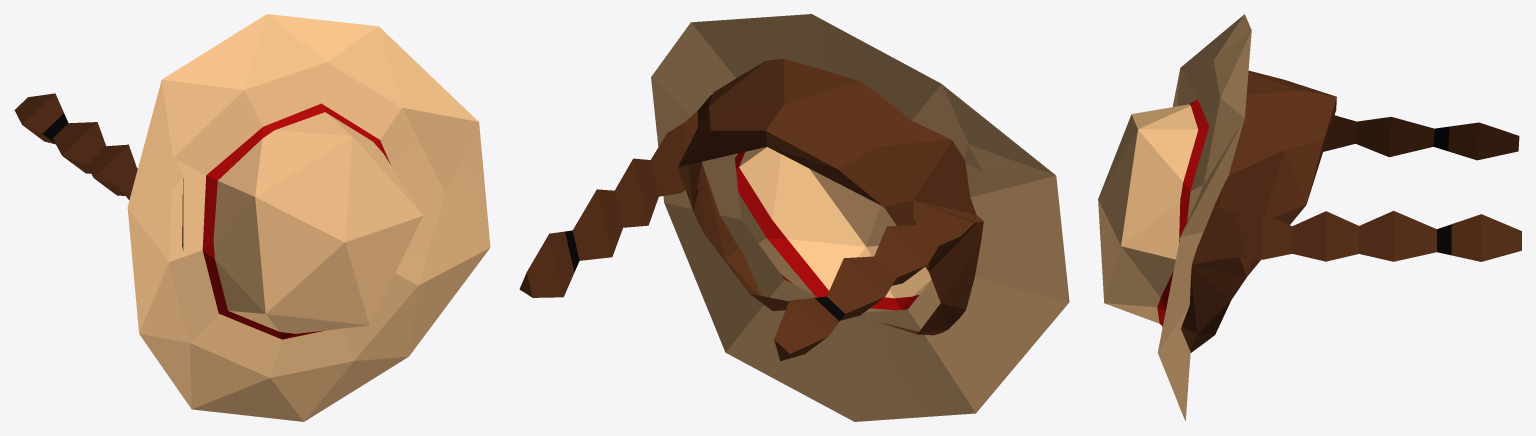
File: Strawhat.glb
The picture shows the model from 3 angles, left to right: view 1: azimuth 30°, elevation 25°; view 2: azimuth 150°, elevation 25°; view 3: azimuth 270°, elevation 25°; orthographic projection. The views are drawn at different scales.
Visible parts, largest first — view 1: Strawhat; view 2: Strawhat; view 3: Strawhat.
Boxes of the visible parts, box(x1,y1,x2,y2) form: Strawhat: box(14, 14, 490, 421); Strawhat: box(519, 14, 1069, 421); Strawhat: box(1098, 14, 1521, 420).
Size of the model in its own units: 0.2951 by 0.3056 by 0.3128.
1 material, 1 textured.
